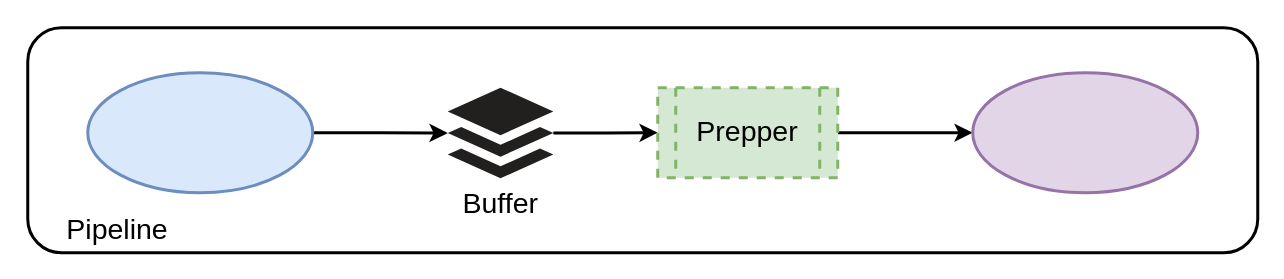
This 1284x279 diagram has some shape labels left out. Here are the shapes that lost their labels. From the top down, the centre of each, then its label:
At (x=200, y=132): "Source".
At (x=1084, y=132): "Sink".
